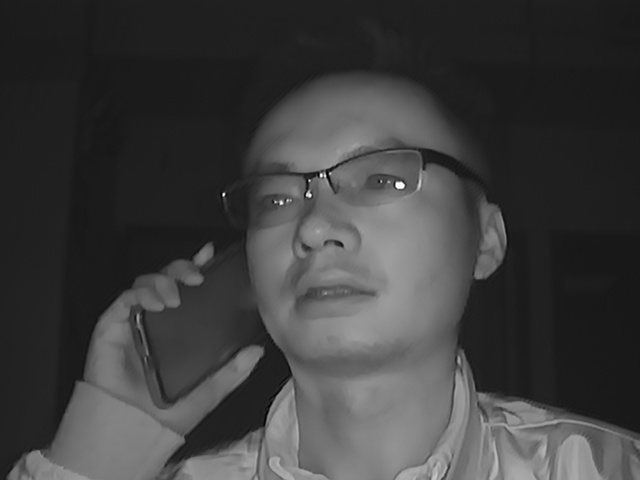hand: (90, 252, 223, 431)
